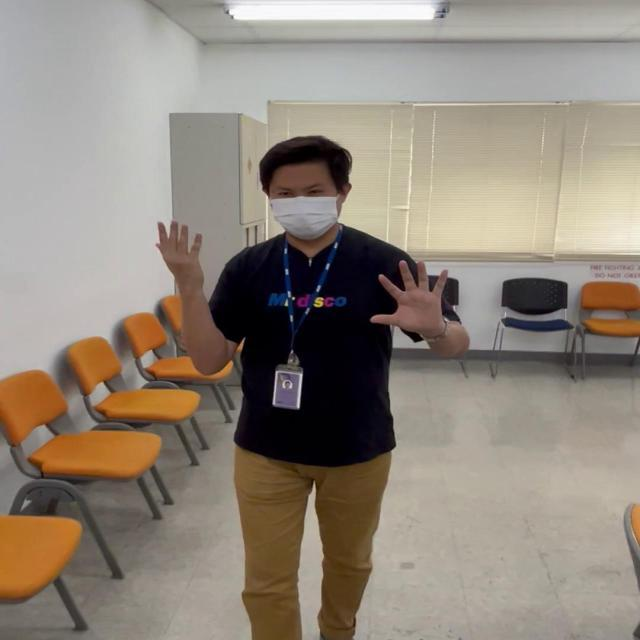bare_hand: (369, 255, 453, 332), (152, 212, 205, 286)
